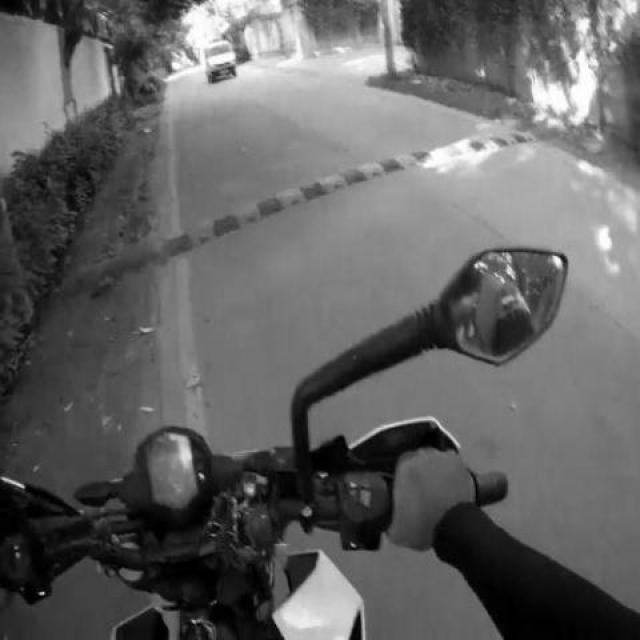Speed Bump: (162, 122, 540, 252)
